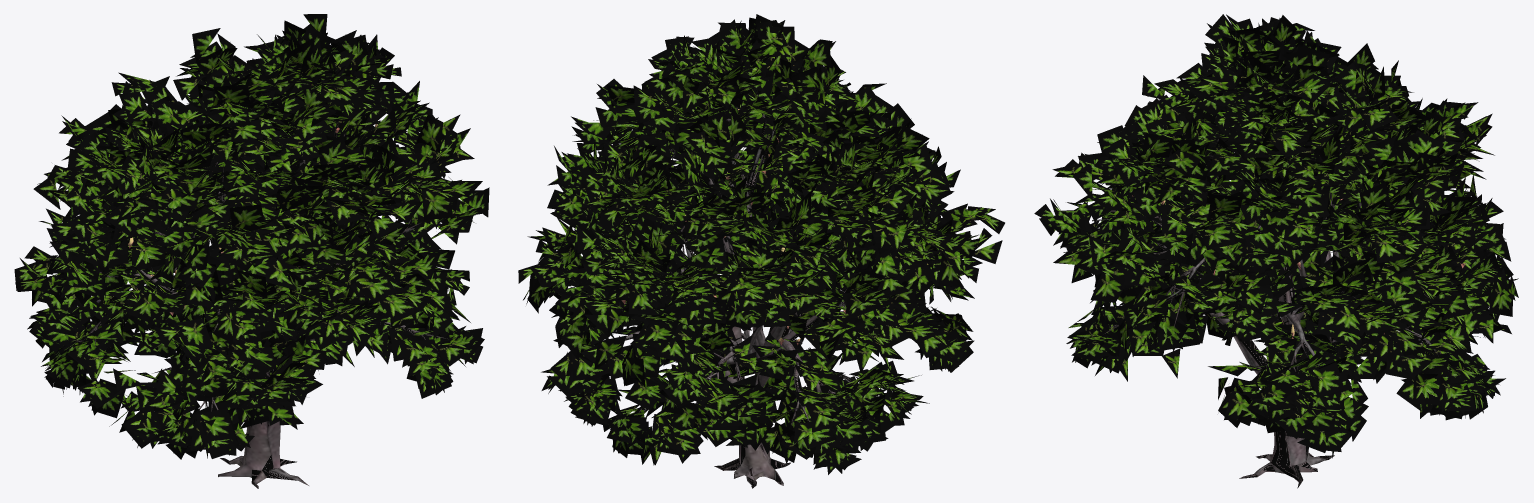
File: tr_mango_lo.glb
3 views of the same model, side by side, from view 1: azimuth 30°, elevation 25°; view 2: azimuth 150°, elevation 25°; view 3: azimuth 270°, elevation 25° (orthographic). The views are drawn at different scales.
Visible parts, largest first — view 1: leaves, tree; view 2: leaves, tree; view 3: leaves, tree.
Boxes of the visible parts, x1=… form: leaves: x1=14, y1=14, x2=489, y2=459; tree: x1=72, y1=84, x2=447, y2=488; leaves: x1=518, y1=14, x2=1004, y2=474; tree: x1=564, y1=89, x2=877, y2=488; leaves: x1=1034, y1=14, x2=1518, y2=458; tree: x1=1092, y1=139, x2=1465, y2=488.
Size of the model in its own units: 6.69 by 6.82 by 6.67.
3 materials, 3 textured.
